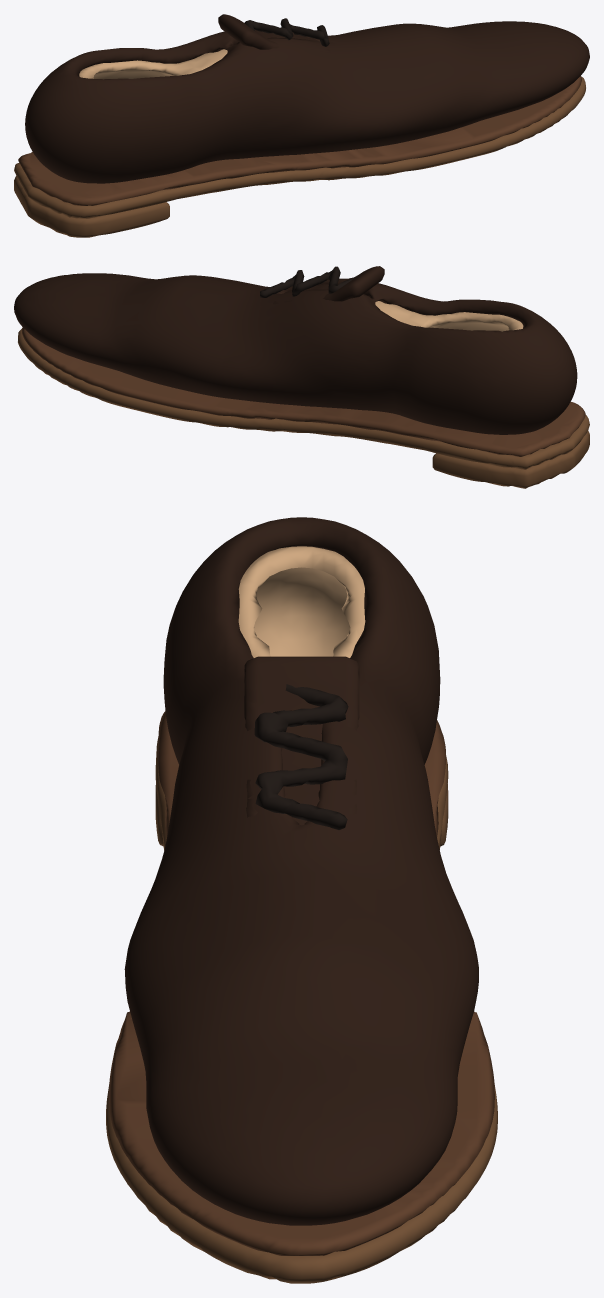
Rendered from klasik.glb.
3 renders of one model, top to bottom at view 1: azimuth 30°, elevation 25°; view 2: azimuth 150°, elevation 25°; view 3: azimuth 270°, elevation 25°, orthographic. The views are drawn at different scales.
Parts seen in each view (by area): view 1: upper, midsole, outsole, heel, lining, tongue, laces; view 2: upper, midsole, outsole, heel, lining, tongue, laces; view 3: upper, midsole, lining, outsole, tongue, laces.
Boxes of the visible parts, x1,y1,x2,y2 form: upper: (25, 21, 589, 183); midsole: (18, 76, 581, 205); outsole: (14, 76, 585, 218); heel: (14, 175, 169, 237); lining: (79, 49, 227, 79); tongue: (218, 14, 330, 53); laces: (244, 18, 329, 46); upper: (14, 273, 577, 434); midsole: (22, 327, 585, 456); outsole: (18, 329, 589, 469); heel: (432, 430, 589, 488); lining: (375, 301, 523, 331); tongue: (273, 266, 384, 304); laces: (260, 266, 357, 297); upper: (124, 517, 478, 1225); midsole: (109, 711, 494, 1255); lining: (238, 546, 365, 657); outsole: (106, 736, 497, 1283); tongue: (244, 656, 359, 825); laces: (254, 684, 348, 829).
Size of the model in its own units: 0.2989 by 0.0758 by 0.0917.
